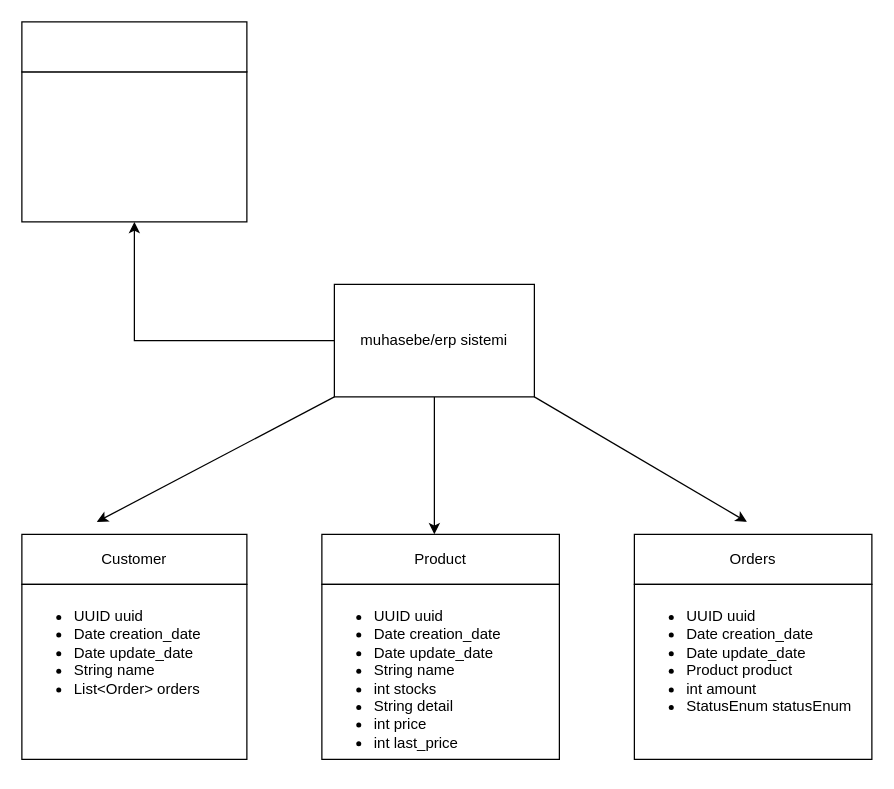
This 894x789 diagram has some shape labels left out. Here are the shapes that lost their labels. From the top down, the box of each, then its label:
(21, 21, 247, 72): SettingTable
(21, 71, 247, 222): key = kdv oranı value kdv değeri
